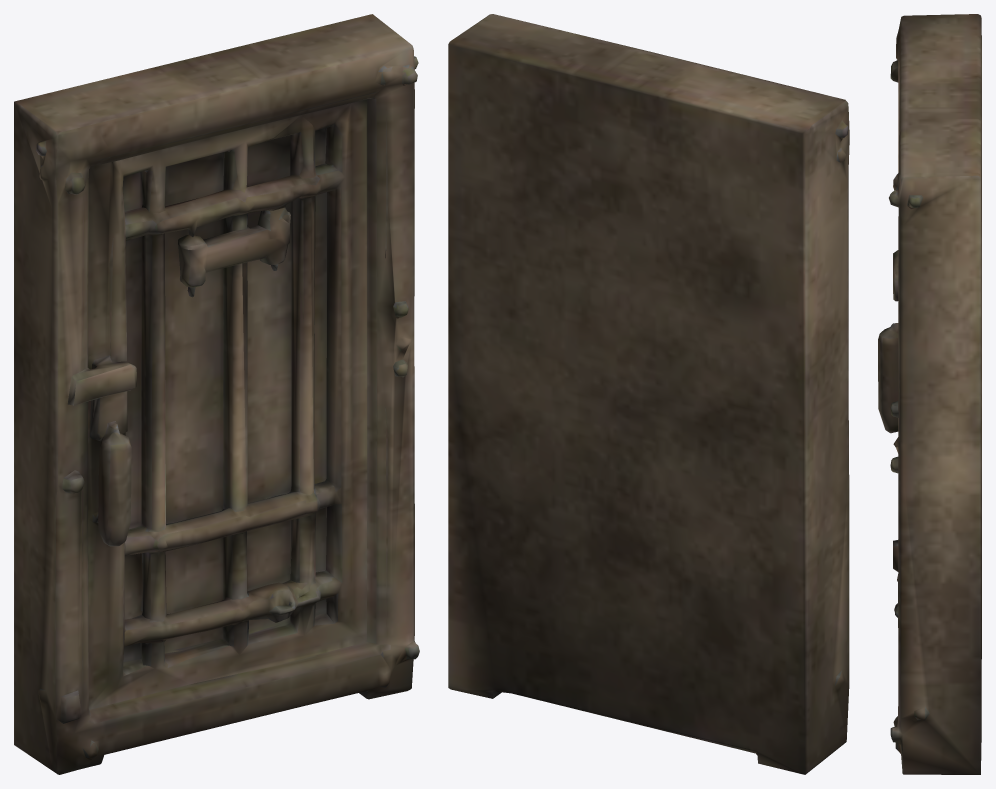
The model's file is old-wood-cell-door-v001.glb.
3 views of the same model, side by side, from view 1: azimuth 30°, elevation 25°; view 2: azimuth 150°, elevation 25°; view 3: azimuth 270°, elevation 25° (orthographic). The views are drawn at different scales.
Parts seen in each view (by area): view 1: old-wood-cell-door; view 2: old-wood-cell-door; view 3: old-wood-cell-door.
Part boxes in pixels (x1,y1,x2,y2): old-wood-cell-door: (14, 14, 419, 774); old-wood-cell-door: (448, 14, 849, 774); old-wood-cell-door: (878, 14, 981, 774).
Bounding box in the file's own units: 1.25 × 2.05 × 0.3209.
Materials: 1 (1 with a texture image).
